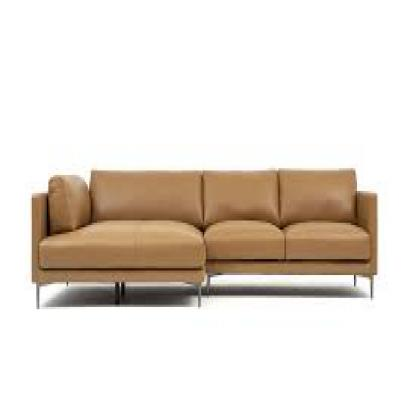sofa: (27, 168, 381, 307)
